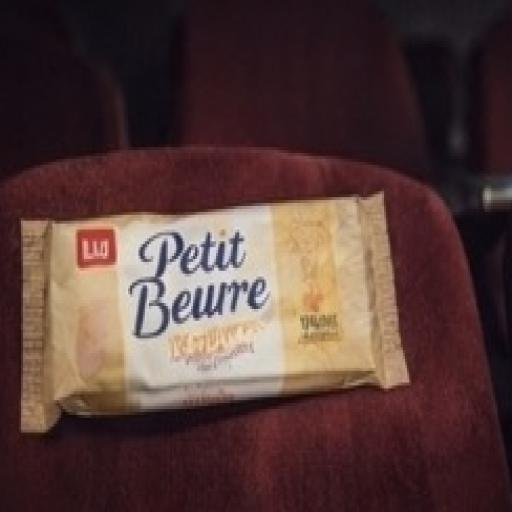petit_beurre: (11, 173, 450, 464)
